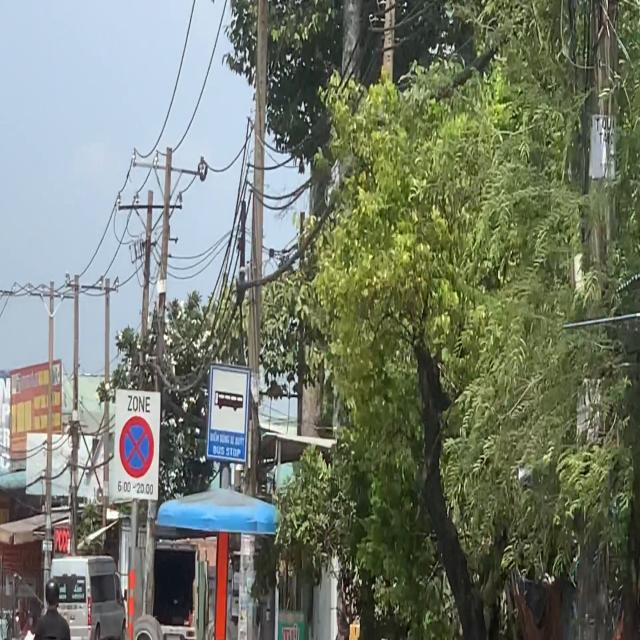Ben xe buyt: (206, 363, 251, 464)
Cam dung va do: (119, 415, 155, 478)
